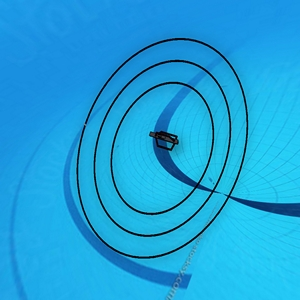circle: (73, 38, 247, 260)
submarine: (150, 130, 176, 149)
